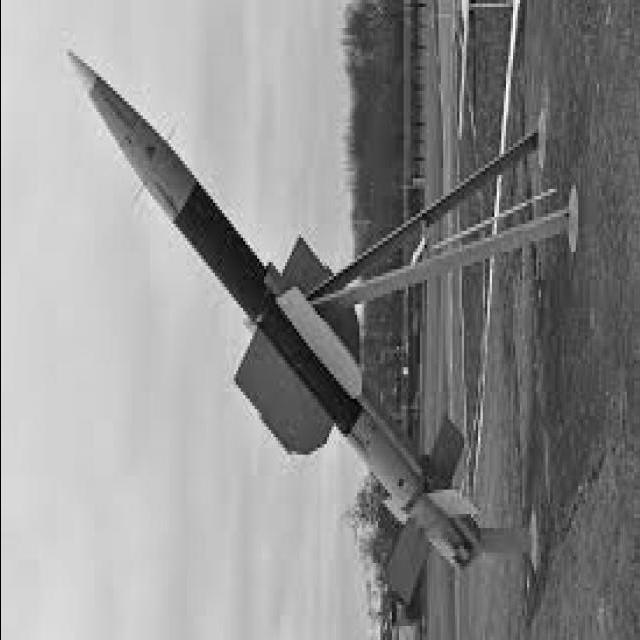missile: (0, 24, 548, 639)
